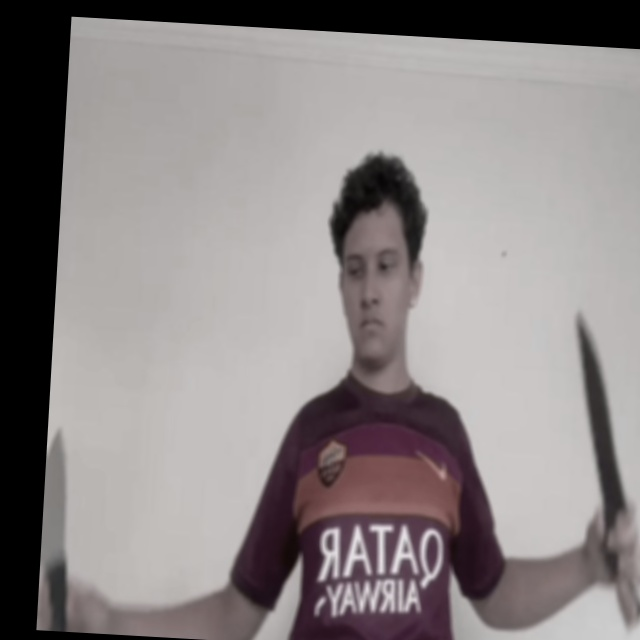Sharp-Object: (563, 308, 638, 509), (40, 425, 72, 574)
